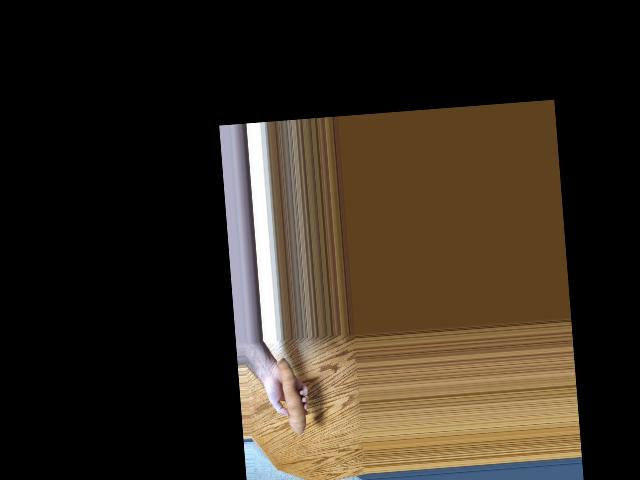sweet_potato: (276, 360, 312, 435)
